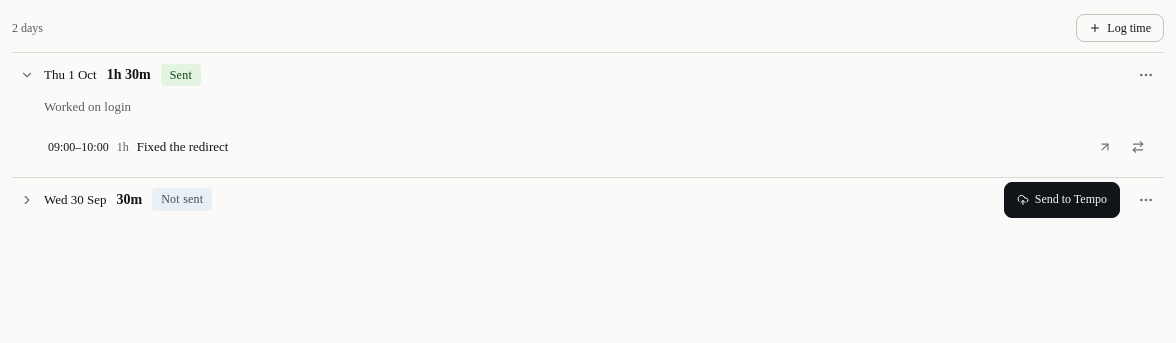
Test: sync to Tempo › dry-runs first, previews, and sends only after confirm
Expected: the text "2 days" is shown, x1=12 y1=19 x2=43 y2=37
Click the button with aria-label "Send to Tempo, Wed 30 Sep" at (1062, 200), box x1=1004 y1=182 x2=1120 y2=218
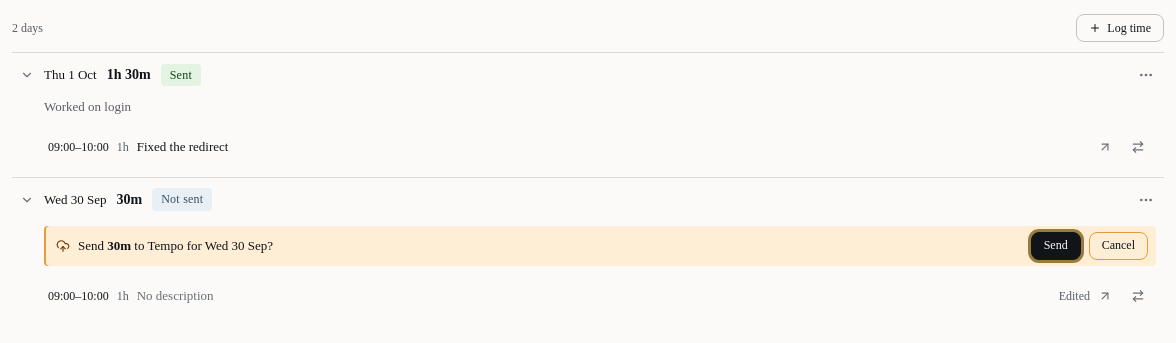
Expected: the element named "Confirm sending" is shown, x1=44 y1=226 x2=1156 y2=266
Click the button "Send" at (1056, 246), box x1=1031 y1=232 x2=1081 y2=260
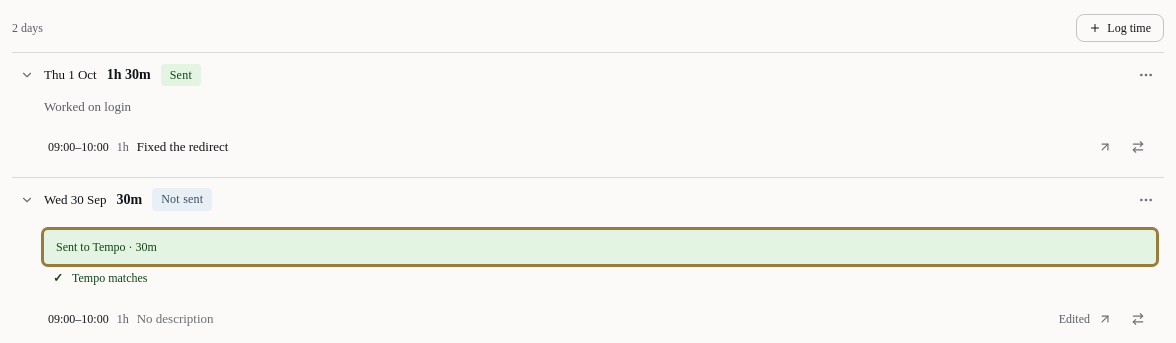
Expected: the text "Sent to Tempo · 30m" is shown, x1=44 y1=230 x2=1156 y2=264
